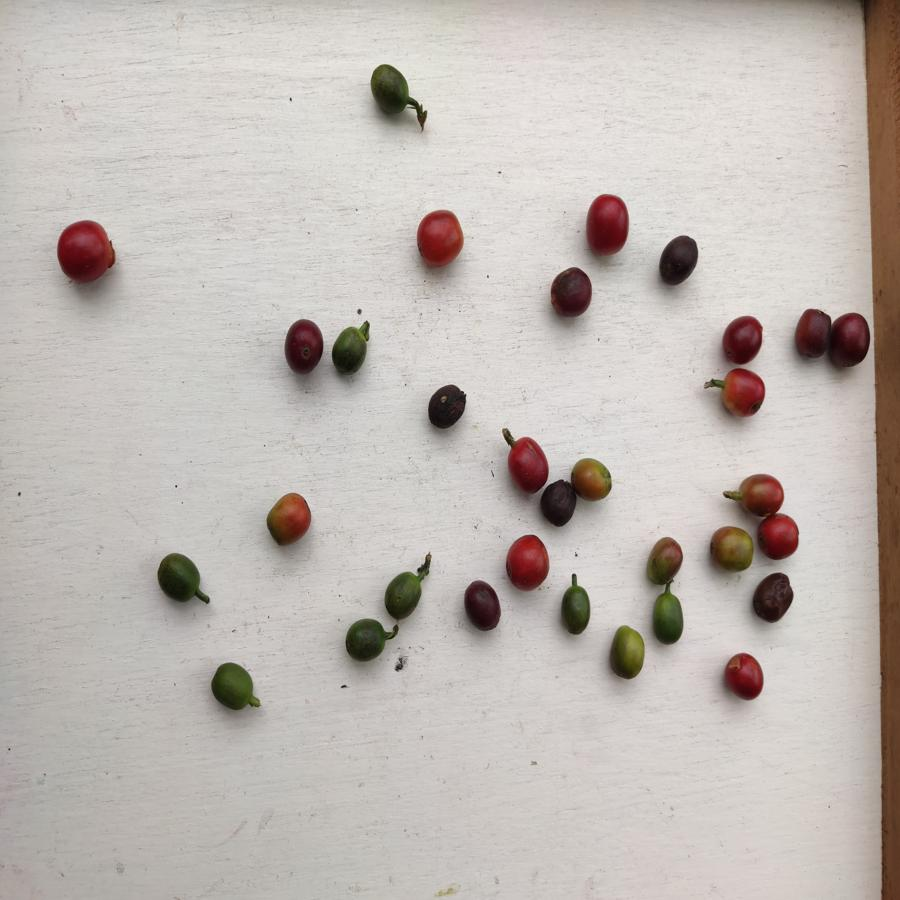Inmaduro: (156, 551, 206, 607), (367, 61, 412, 119), (342, 617, 397, 664), (210, 661, 258, 712), (330, 327, 371, 377), (652, 592, 685, 650), (384, 570, 421, 620), (561, 587, 593, 636)
Maduro: (54, 221, 119, 283), (582, 192, 630, 259), (415, 210, 464, 269), (717, 368, 767, 417), (506, 433, 548, 491), (504, 536, 550, 588), (725, 652, 768, 700), (759, 516, 796, 560)
Pinton: (264, 490, 313, 548), (736, 473, 786, 517), (709, 526, 755, 572), (609, 624, 645, 682), (572, 458, 613, 504), (645, 536, 683, 584)
Sobremaduro: (281, 318, 326, 378), (827, 309, 872, 367), (657, 233, 703, 289), (462, 575, 505, 633), (550, 266, 592, 318), (794, 304, 832, 361), (755, 570, 795, 623), (719, 316, 764, 363), (427, 382, 467, 432), (541, 480, 577, 526)
